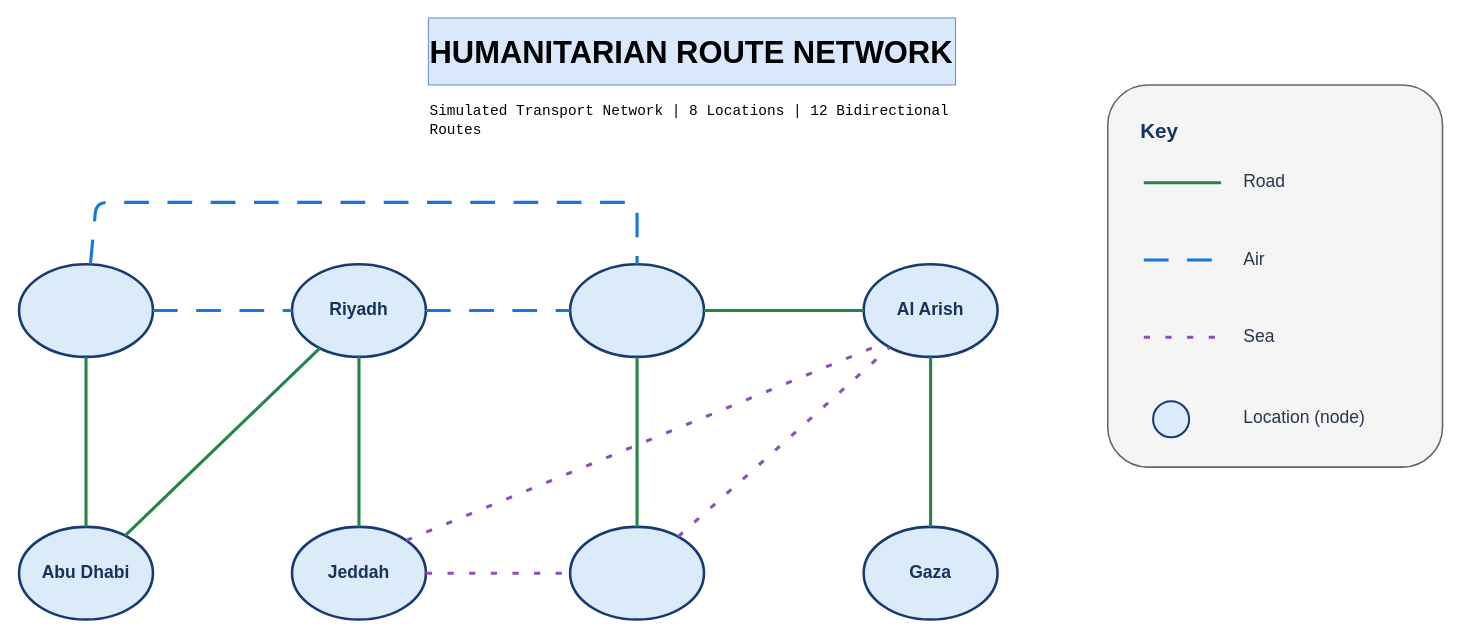
Image size: 1461x639. Some labels were removed from this diagram. Here are the shapes that lost their labels. From the top down, the centre of each, then its label:
point (85, 310): Dubai
point (636, 310): Amman
point (636, 572): Aqaba
